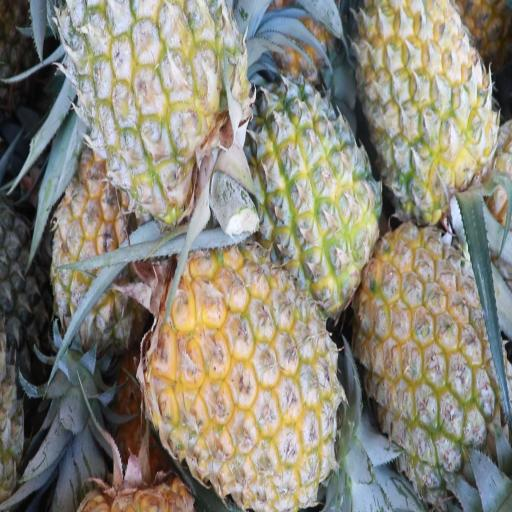------------------------------: (62, 0, 247, 207), (252, 85, 379, 296), (53, 161, 144, 340)
Pineapple - v8 v1: (153, 256, 342, 503), (364, 233, 504, 475), (362, 0, 493, 205)
